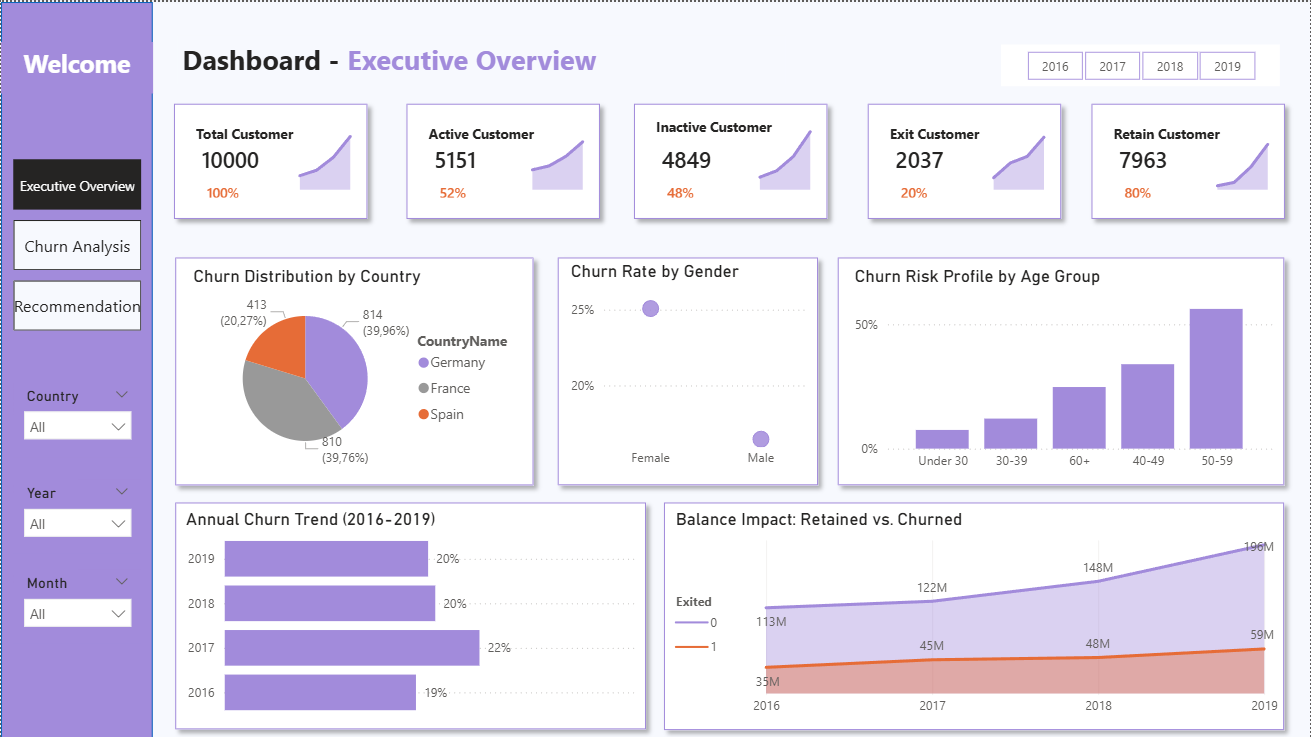

Layout of this report page (visuals, bound fields, positions):
{"tool":"powerbi","page":{"name":"Executive Overview","canvas":[1280,720],"ordinal":0},"visuals":[{"type":"group","id":"g1","title":"Group 1","box":[0,0,148.4,720.3],"z":0},{"type":"shape","box":[0,0,148.4,720.3],"z":0,"group":"g1"},{"type":"textbox","box":[172.9,33.6,595.5,57.5],"z":0,"group":"g2"},{"type":"textbox","box":[0,39.1,148.4,50],"z":1000,"group":"g1"},{"type":"slicer","fields":{"Values":["Dim_Date.Year"]},"box":[979.2,41.9,272.8,41],"z":1000,"group":"g2"},{"type":"slicer","fields":{"Values":["Dim_Date.MonthName"]},"box":[12.5,554.7,125,71.9],"z":1000},{"type":"group","id":"g2","title":"Group 2","box":[172.9,33.6,1079,57.5],"z":2000},{"type":"slicer","fields":{"Values":["Dim_Date.Year"]},"box":[12.5,467.2,125,71.9],"z":2000,"group":"g1"},{"type":"shape","box":[388.2,90.4,207.3,130.8],"z":3000,"group":"g10"},{"type":"shape","box":[610.8,90.4,207.3,130.8],"z":3000,"group":"g12"},{"type":"shape","box":[839,90.4,207.3,130.8],"z":3000,"group":"g13"},{"type":"shape","box":[1057.4,90.4,207.3,130.8],"z":3000,"group":"g14"},{"type":"group","id":"g3","title":"Group 3","box":[160.2,90.9,207.3,130.8],"z":3000},{"type":"shape","box":[160.2,90.9,207.3,130.8],"z":3000,"group":"g3"},{"type":"shape","box":[160.9,240.6,368.6,241],"z":3000,"group":"g4"},{"type":"shape","box":[535.6,240.9,272.7,240.9],"z":3000,"group":"g9"},{"type":"shape","box":[809.4,241.1,454.9,240.9],"z":3000,"group":"g11"},{"type":"slicer","fields":{"Values":["dim_geography.CountryName"]},"box":[12.5,371.9,125,73.4],"z":3000,"group":"g1"},{"type":"shape","box":[161.4,480,478.6,240],"z":3000,"group":"g5"},{"type":"shape","box":[640,480,624.7,240.7],"z":3000,"group":"g6"},{"type":"areaChart","fields":{"Category":["Dim_Date.Year"],"Y":["Measure.Active Customer"]},"box":[505.9,112.2,79.3,76.3],"z":3500,"group":"g10"},{"type":"areaChart","fields":{"Category":["Dim_Date.Year"],"Y":["Measure.Inactive Customer"]},"box":[728.5,112.2,79.3,76.3],"z":3500,"group":"g12"},{"type":"areaChart","fields":{"Category":["Dim_Date.Year"],"Y":["Measure.Exit Customer"]},"box":[956.7,112.2,79.3,76.3],"z":3500,"group":"g13"},{"type":"areaChart","fields":{"Category":["Dim_Date.Year"],"Y":["Measure.Retain Customer"]},"box":[1175.1,112.2,79.3,76.3],"z":3500,"group":"g14"},{"type":"areaChart","fields":{"Category":["Dim_Date.Year"],"Y":["Measure.Total Customer"]},"box":[277.9,112.7,79.3,76.3],"z":3500,"group":"g3"},{"type":"pageNavigator","box":[12.5,154.7,125,168.8],"z":4000,"group":"g1"},{"type":"group","id":"g4","title":"Group 4","box":[160.9,240.6,368.8,240.6],"z":4000},{"type":"pieChart","title":"Churn Distribution by Country","fields":{"Category":["dim_geography.CountryName"],"Y":["Measure.Exit Customer"]},"box":[182.4,258,333.7,201.8],"z":4000,"group":"g4"},{"type":"barChart","title":"Annual Churn Trend (2016-2019)","fields":{"Category":["Dim_Date.Year","Dim_Date.Month"],"Y":["Measure.Exit Customer(%)"]},"box":[175.6,494.2,451.5,210.8],"z":4000,"group":"g5"},{"type":"cardVisual","fields":{"Data":["Measure.Active Customer(%)"]},"box":[400.4,161.5,103,47.3],"z":4375,"group":"g10"},{"type":"cardVisual","fields":{"Data":["Measure.Inactive Customer(%)"]},"box":[623,161.5,103,47.3],"z":4375,"group":"g12"},{"type":"cardVisual","fields":{"Data":["Measure.Exit Customer(%)"]},"box":[851.2,161.5,103,47.3],"z":4375,"group":"g13"},{"type":"cardVisual","fields":{"Data":["Measure.Retain Customer(%)"]},"box":[1069.6,161.5,103,47.3],"z":4375,"group":"g14"},{"type":"cardVisual","fields":{"Data":["Measure.Total Customer(%)"]},"box":[172.4,162,103,47.3],"z":4375,"group":"g3"},{"type":"group","id":"g5","title":"Group 4","box":[161.4,480,478.6,240],"z":5000},{"type":"cardVisual","fields":{"Data":["Measure.Active Customer"]},"box":[400,125.5,114.1,54.3],"z":5250,"group":"g10"},{"type":"cardVisual","fields":{"Data":["Measure.Inactive Customer"]},"box":[622.6,125.5,114.1,54.3],"z":5250,"group":"g12"},{"type":"cardVisual","fields":{"Data":["Measure.Exit Customer"]},"box":[850.8,125.5,114.1,54.3],"z":5250,"group":"g13"},{"type":"cardVisual","fields":{"Data":["Measure.Retain Customer"]},"box":[1069.2,125.5,114.1,54.3],"z":5250,"group":"g14"},{"type":"cardVisual","fields":{"Data":["Measure.Total Customer"]},"box":[172,126,114.1,54.3],"z":5250,"group":"g3"},{"type":"textbox","box":[636.1,107.9,136.3,33.4],"z":5500,"group":"g12"},{"type":"textbox","box":[413.9,114.4,122.4,27.8],"z":5500,"group":"g10"},{"type":"textbox","box":[864.7,114.4,122.4,27.8],"z":5500,"group":"g13"},{"type":"textbox","box":[1083.1,114.4,122.4,27.8],"z":5500,"group":"g14"},{"type":"textbox","box":[185.9,114.9,122.4,27.8],"z":5500,"group":"g3"},{"type":"group","id":"g6","title":"Group 4","box":[640,480,624.7,240.7],"z":6000},{"type":"areaChart","title":"Balance Impact: Retained vs. Churned","fields":{"Category":["Dim_Date.Year"],"Y":["Sum(fact_churn.Balance)"],"Series":["fact_churn.Exited"]},"box":[655.3,495.3,598.3,211.5],"z":7000},{"type":"group","id":"g7","title":"Group 5","box":[809.4,241.1,454.9,240.9],"z":8000},{"type":"group","id":"g8","title":"Group 6","box":[535.6,240.9,272.7,240.9],"z":9000},{"type":"group","id":"g9","title":"Group 4","box":[535.6,240.9,272.7,240.9],"z":9000,"group":"g8"},{"type":"group","id":"g10","title":"Group 3","box":[388.2,90.4,207.3,130.8],"z":10000},{"type":"group","id":"g11","title":"Group 4","box":[809.4,241.1,454.9,240.9],"z":10000,"group":"g7"},{"type":"group","id":"g12","title":"Group 3","box":[610.8,90.4,207.3,130.8],"z":11000},{"type":"group","id":"g13","title":"Group 3","box":[839,90.4,207.3,130.8],"z":12000},{"type":"scatterChart","title":"Churn Rate by Gender","fields":{"X":["dim_gender.GenderName"],"Y":["Measure.%Exit Customer"]},"box":[553.2,253.3,240.9,211.6],"z":12000,"group":"g8"},{"type":"group","id":"g14","title":"Group 3","box":[1057.4,90.4,207.3,130.8],"z":13000},{"type":"columnChart","title":"Churn Risk Profile by Age Group","fields":{"Category":["fact_churn.AgeGroup"],"Y":["Measure.%Exit Customer"]},"box":[829.7,258.1,418.2,209.1],"z":14000,"group":"g7"}]}

Visuals, with their boxes on the page's 1280x720 design canvas (x1, y1, x2, y2). These are canvas units, not pixel positions in the 1311x737 screenshot, which may show the page scaled, cropped or inside an application window:
"Group 1" group: x1=0, y1=0, x2=148, y2=720
shape: x1=0, y1=0, x2=148, y2=720
textbox: x1=173, y1=34, x2=768, y2=91
textbox: x1=0, y1=39, x2=148, y2=89
slicer - Dim_Date.Year: x1=979, y1=42, x2=1252, y2=83
slicer - Dim_Date.MonthName: x1=12, y1=555, x2=138, y2=627
"Group 2" group: x1=173, y1=34, x2=1252, y2=91
slicer - Dim_Date.Year: x1=12, y1=467, x2=138, y2=539
shape: x1=388, y1=90, x2=596, y2=221
shape: x1=611, y1=90, x2=818, y2=221
shape: x1=839, y1=90, x2=1046, y2=221
shape: x1=1057, y1=90, x2=1265, y2=221
"Group 3" group: x1=160, y1=91, x2=368, y2=222
shape: x1=160, y1=91, x2=368, y2=222
shape: x1=161, y1=241, x2=530, y2=482
shape: x1=536, y1=241, x2=808, y2=482
shape: x1=809, y1=241, x2=1264, y2=482
slicer - dim_geography.CountryName: x1=12, y1=372, x2=138, y2=445
shape: x1=161, y1=480, x2=640, y2=720
shape: x1=640, y1=480, x2=1265, y2=721
areaChart - Dim_Date.Year x Measure.Active Customer: x1=506, y1=112, x2=585, y2=188
areaChart - Dim_Date.Year x Measure.Inactive Customer: x1=728, y1=112, x2=808, y2=188
areaChart - Dim_Date.Year x Measure.Exit Customer: x1=957, y1=112, x2=1036, y2=188
areaChart - Dim_Date.Year x Measure.Retain Customer: x1=1175, y1=112, x2=1254, y2=188
areaChart - Dim_Date.Year x Measure.Total Customer: x1=278, y1=113, x2=357, y2=189
pageNavigator: x1=12, y1=155, x2=138, y2=324
"Group 4" group: x1=161, y1=241, x2=530, y2=481
"Churn Distribution by Country" pieChart: x1=182, y1=258, x2=516, y2=460
"Annual Churn Trend (2016-2019)" barChart: x1=176, y1=494, x2=627, y2=705
cardVisual - Measure.Active Customer(%): x1=400, y1=162, x2=503, y2=209
cardVisual - Measure.Inactive Customer(%): x1=623, y1=162, x2=726, y2=209
cardVisual - Measure.Exit Customer(%): x1=851, y1=162, x2=954, y2=209
cardVisual - Measure.Retain Customer(%): x1=1070, y1=162, x2=1173, y2=209
cardVisual - Measure.Total Customer(%): x1=172, y1=162, x2=275, y2=209
"Group 4" group: x1=161, y1=480, x2=640, y2=720
cardVisual - Measure.Active Customer: x1=400, y1=126, x2=514, y2=180
cardVisual - Measure.Inactive Customer: x1=623, y1=126, x2=737, y2=180
cardVisual - Measure.Exit Customer: x1=851, y1=126, x2=965, y2=180
cardVisual - Measure.Retain Customer: x1=1069, y1=126, x2=1183, y2=180
cardVisual - Measure.Total Customer: x1=172, y1=126, x2=286, y2=180
textbox: x1=636, y1=108, x2=772, y2=141
textbox: x1=414, y1=114, x2=536, y2=142
textbox: x1=865, y1=114, x2=987, y2=142
textbox: x1=1083, y1=114, x2=1206, y2=142
textbox: x1=186, y1=115, x2=308, y2=143
"Group 4" group: x1=640, y1=480, x2=1265, y2=721
"Balance Impact: Retained vs. Churned" areaChart: x1=655, y1=495, x2=1254, y2=707
"Group 5" group: x1=809, y1=241, x2=1264, y2=482
"Group 6" group: x1=536, y1=241, x2=808, y2=482
"Group 4" group: x1=536, y1=241, x2=808, y2=482
"Group 3" group: x1=388, y1=90, x2=596, y2=221
"Group 4" group: x1=809, y1=241, x2=1264, y2=482
"Group 3" group: x1=611, y1=90, x2=818, y2=221
"Group 3" group: x1=839, y1=90, x2=1046, y2=221
"Churn Rate by Gender" scatterChart: x1=553, y1=253, x2=794, y2=465
"Group 3" group: x1=1057, y1=90, x2=1265, y2=221
"Churn Risk Profile by Age Group" columnChart: x1=830, y1=258, x2=1248, y2=467
